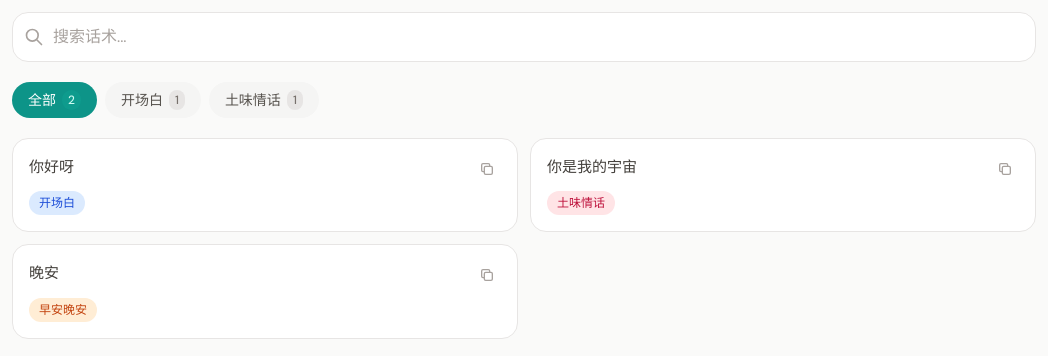
Test case: PhraseLibrary › shows "没有找到匹配的话术" when search yields no results
The image size is (1048, 356).
expect the text "你好呀" is shown: met, box 29,157 -> 74,177
Type "不存在的话术" into the field with placeholder "搜索话术..." at (524, 37), box 12,12 -> 1036,62
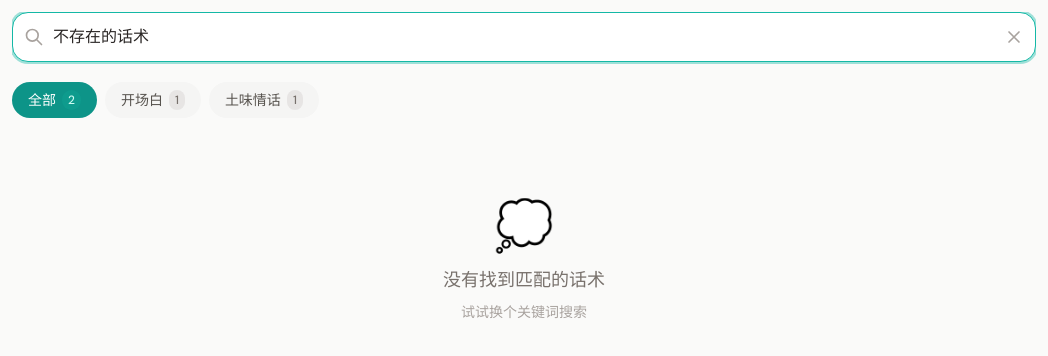
expect the text "没有找到匹配的话术" is shown: met, box 443,268 -> 605,292
